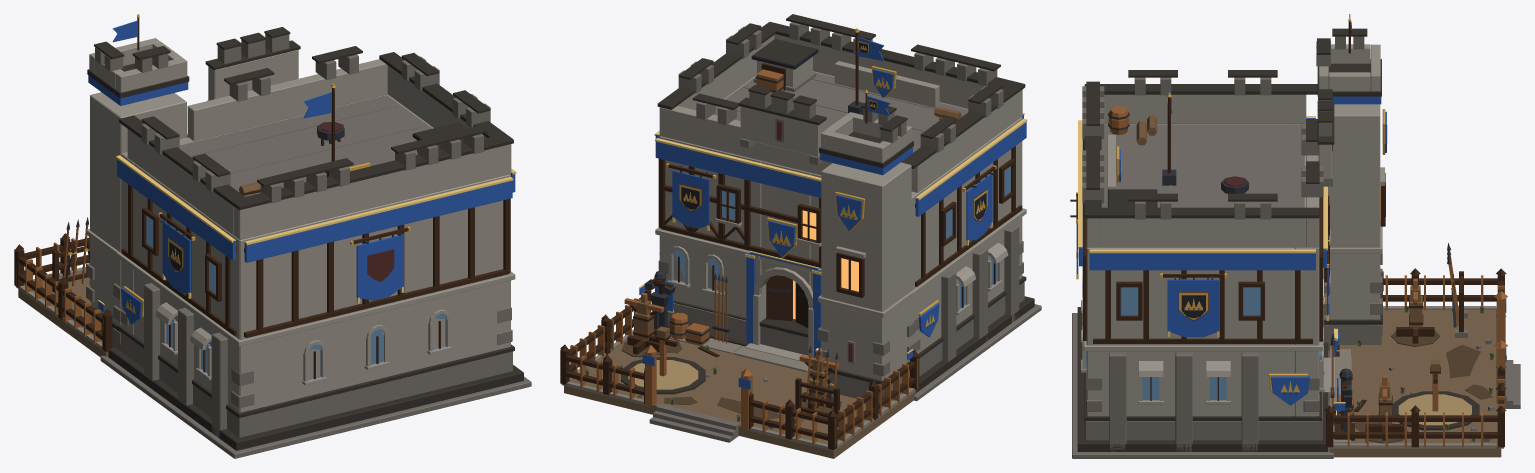
3 views of the same model, side by side, from view 1: azimuth 30°, elevation 25°; view 2: azimuth 150°, elevation 25°; view 3: azimuth 270°, elevation 25° (orthographic). The views are drawn at different scales.
Parts seen in each view (by area): view 1: BR-stone_light, BR-stone_mid, BR-stone_dark, BR-wood_dark, BR-team, BR-team_trim, BR-wood_warm, BR-glass, BR-earth, BR-coal, BR-gold, BR-iron (+1 smaller); view 2: BR-stone_light, BR-stone_mid, BR-wood_dark, BR-stone_dark, BR-team, BR-earth, BR-wood_warm, BR-paving, BR-gold, BR-team_trim, BR-iron, BR-roof_wood (+6 smaller); view 3: BR-stone_light, BR-stone_mid, BR-stone_dark, BR-wood_dark, BR-earth, BR-team, BR-wood_warm, BR-team_trim, BR-glass, BR-paving, BR-earth_dark, BR-iron (+4 smaller).
Part boxes in pixels (x1,y1,x2,y2): BR-stone_light: [86, 38, 515, 412]; BR-stone_mid: [52, 34, 531, 458]; BR-stone_dark: [87, 27, 523, 450]; BR-wood_dark: [14, 17, 510, 379]; BR-team: [88, 20, 515, 324]; BR-team_trim: [98, 133, 516, 305]; BR-wood_warm: [15, 194, 253, 350]; BR-glass: [146, 215, 446, 379]; BR-earth: [18, 270, 108, 357]; BR-coal: [127, 122, 394, 314]; BR-gold: [67, 14, 410, 320]; BR-iron: [65, 122, 417, 279]; BR-stone_light: [655, 34, 1026, 380]; BR-stone_mid: [577, 22, 1041, 442]; BR-wood_dark: [560, 29, 1022, 450]; BR-stone_dark: [621, 14, 1034, 394]; BR-team: [639, 37, 1026, 389]; BR-earth: [564, 335, 915, 458]; BR-wood_warm: [570, 69, 918, 445]; BR-paving: [561, 329, 916, 451]; BR-gold: [666, 28, 996, 386]; BR-team_trim: [639, 113, 1027, 353]; BR-iron: [644, 76, 994, 408]; BR-roof_wood: [634, 107, 961, 397]; BR-stone_light: [1081, 44, 1384, 416]; BR-stone_mid: [1072, 36, 1520, 458]; BR-stone_dark: [1077, 28, 1479, 451]; BR-wood_dark: [1076, 21, 1506, 447]; BR-earth: [1329, 308, 1501, 457]; BR-team: [1076, 14, 1506, 415]; BR-wood_warm: [1108, 106, 1507, 447]; BR-team_trim: [1076, 116, 1345, 415]; BR-glass: [1086, 267, 1324, 400]; BR-paving: [1329, 306, 1503, 448]; BR-earth_dark: [1354, 326, 1492, 443]; BR-iron: [1070, 112, 1456, 431].
Size of the model in its own units: 11.08 by 11.6 by 14.73.
